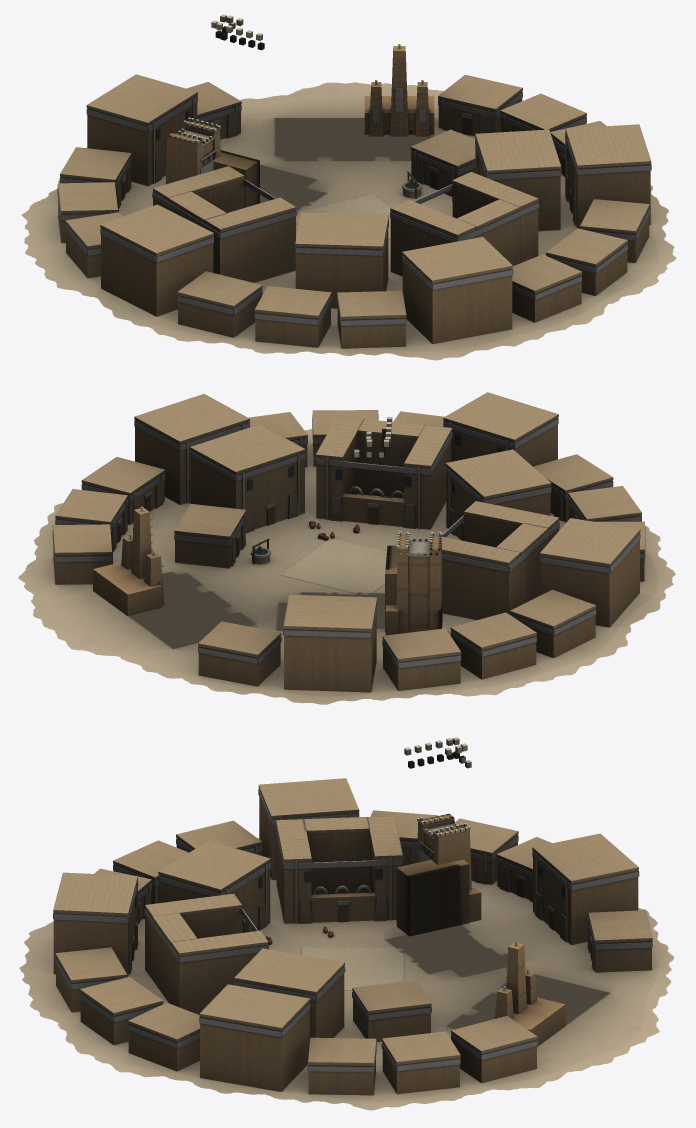
File: kingdoms-town-big-a-maghreb-682165ea.glb
3 renders of one model, top to bottom at view 1: azimuth 30°, elevation 25°; view 2: azimuth 150°, elevation 25°; view 3: azimuth 270°, elevation 25°, orthographic.
Parts seen in each view (by area): view 1: LOD0; view 2: LOD0; view 3: LOD0.
Boxes of the visible parts, left/top/right/bottom form: LOD0: left=21, top=14, right=676, bottom=360; LOD0: left=18, top=392, right=675, bottom=704; LOD0: left=19, top=737, right=673, bottom=1110.
Size of what is drawn, in the model's own units: 8.02 by 2.47 by 7.89.
Materials: 3 (3 with a texture image).
